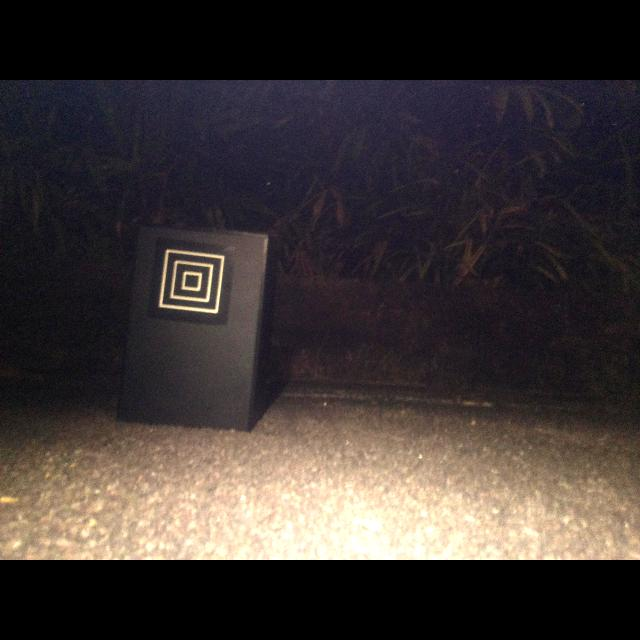BULLSEYE: (157, 248, 225, 315)
